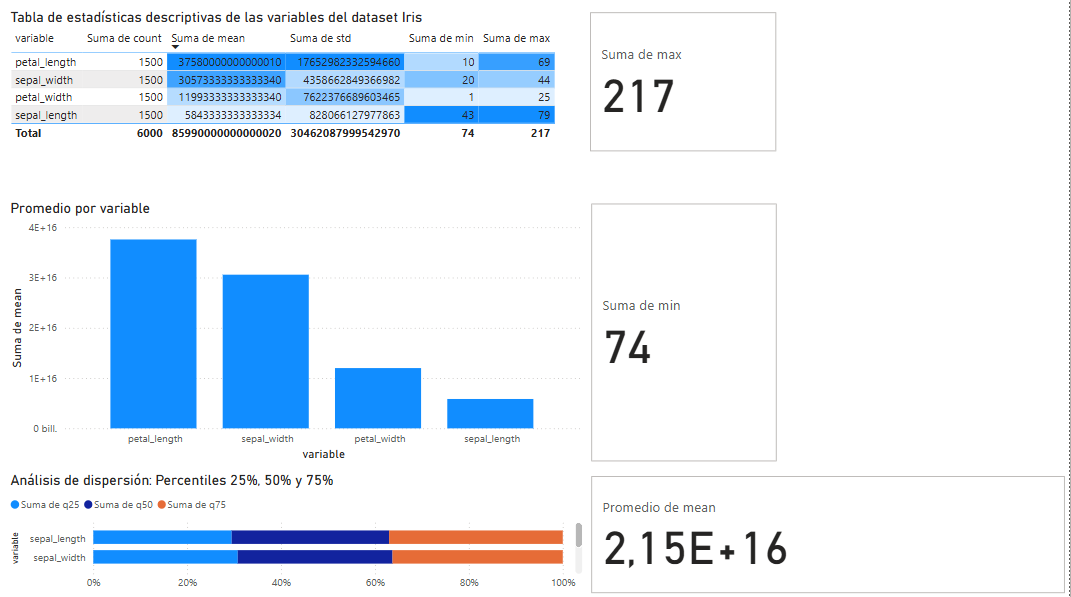

The page's visual inventory and layout, read from the dashboard file:
{"tool":"powerbi","page":{"name":"Página 1","canvas":[1280,720],"ordinal":0},"visuals":[{"type":"tableEx","title":"Tabla de estadísticas descriptivas de las variables del dataset Iris","fields":{"Values":["analisis_descriptivo.variable","Sum(analisis_descriptivo.count)","Sum(analisis_descriptivo.mean)","Sum(analisis_descriptivo.std)","Sum(analisis_descriptivo.min)","Sum(analisis_descriptivo.max)"]},"box":[17.8,19.2,688.9,175.6],"z":4},{"type":"clusteredColumnChart","title":"Promedio por variable","fields":{"Category":["analisis_descriptivo.variable"],"Y":["Sum(analisis_descriptivo.mean)"]},"box":[17.8,247,688.9,315.6],"z":5},{"type":"hundredPercentStackedBarChart","title":"Análisis de dispersión: Percentiles 25%, 50% y 75%","fields":{"Category":["analisis_descriptivo.variable"],"Y":["Sum(analisis_descriptivo.q25)","Sum(analisis_descriptivo.q50)","Sum(analisis_descriptivo.q75)"]},"box":[18,570,689,150],"z":6},{"type":"cardVisual","fields":{"Data":["Sum(analisis_descriptivo.max)"]},"box":[706.2,19.3,231.4,175.1],"z":7},{"type":"cardVisual","fields":{"Data":["Sum(analisis_descriptivo.min)"]},"box":[707,247,230,316],"z":8},{"type":"cardVisual","fields":{"Data":["Avg(analisis_descriptivo.mean)"]},"box":[707.7,569.7,572.6,149.8],"z":9}]}

Visuals, with their boxes in screenshot pixels (x1, y1, x2, y2), scaled from the page's 1280x720 canvas onto the 1071x597 screenshot:
"Tabla de estadísticas descriptivas de las variables del dataset Iris" tableEx: <box>15,16,591,162</box>
"Promedio por variable" clusteredColumnChart: <box>15,205,591,466</box>
"Análisis de dispersión: Percentiles 25%, 50% y 75%" hundredPercentStackedBarChart: <box>15,473,592,596</box>
cardVisual - Sum(analisis_descriptivo.max): <box>591,16,785,161</box>
cardVisual - Sum(analisis_descriptivo.min): <box>592,205,784,467</box>
cardVisual - Avg(analisis_descriptivo.mean): <box>592,472,1070,596</box>
